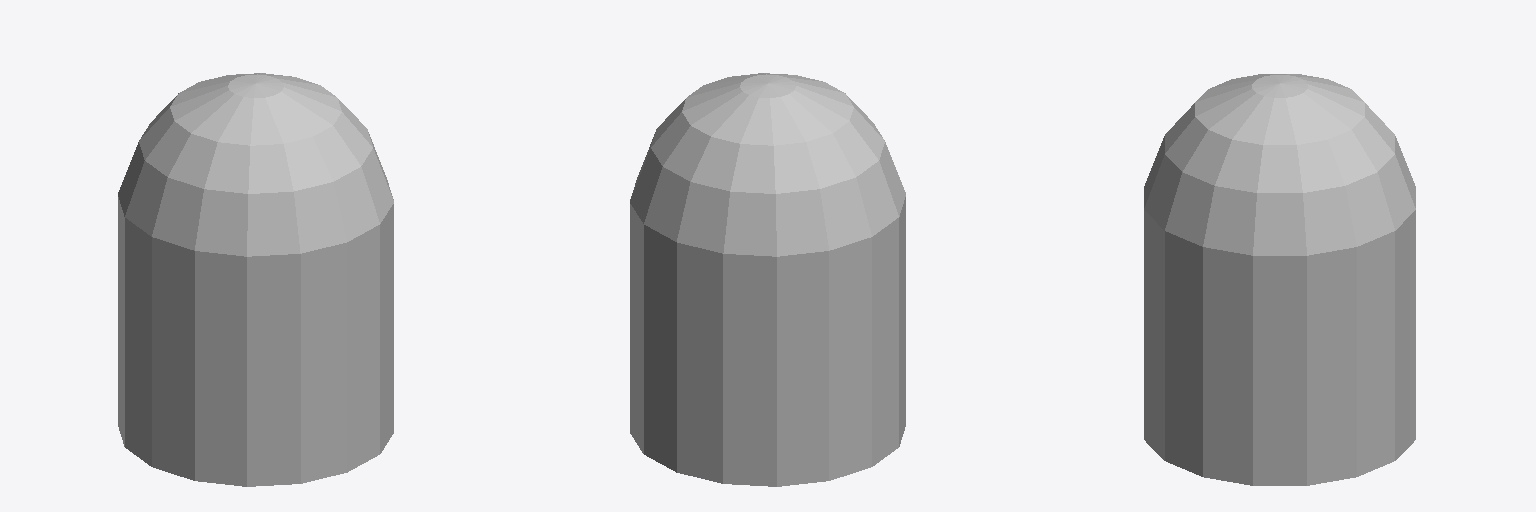
The model's file is led.obj.
3 views of the same model, side by side, from view 1: azimuth 30°, elevation 25°; view 2: azimuth 150°, elevation 25°; view 3: azimuth 270°, elevation 25° (orthographic).
Parts seen in each view (by area): view 1: Cylinder; view 2: Cylinder; view 3: Cylinder.
Part boxes in pixels (x1,y1,x2,y2): Cylinder: (118,73,393,486); Cylinder: (630,73,905,486); Cylinder: (1144,74,1415,485).
Bounding box in the file's own units: 0.145 × 0.203 × 0.145.